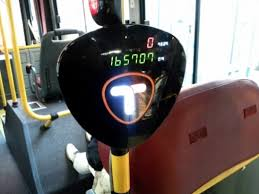terminal: (56, 20, 187, 152)
